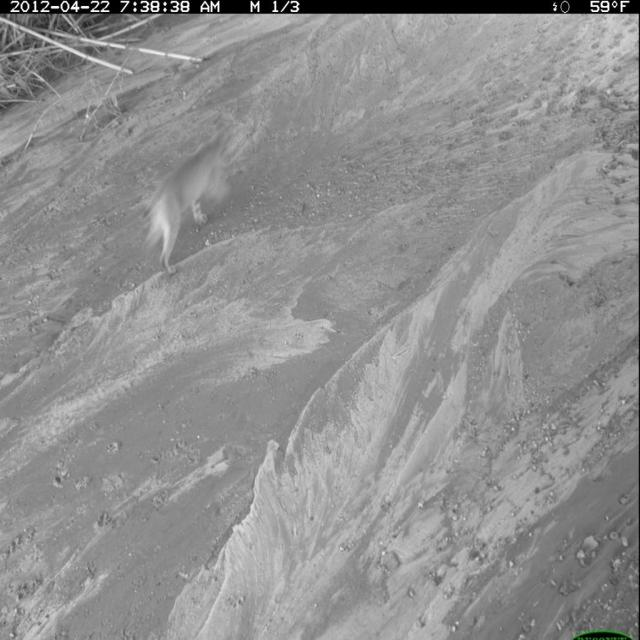bobcat: (138, 113, 249, 285)
